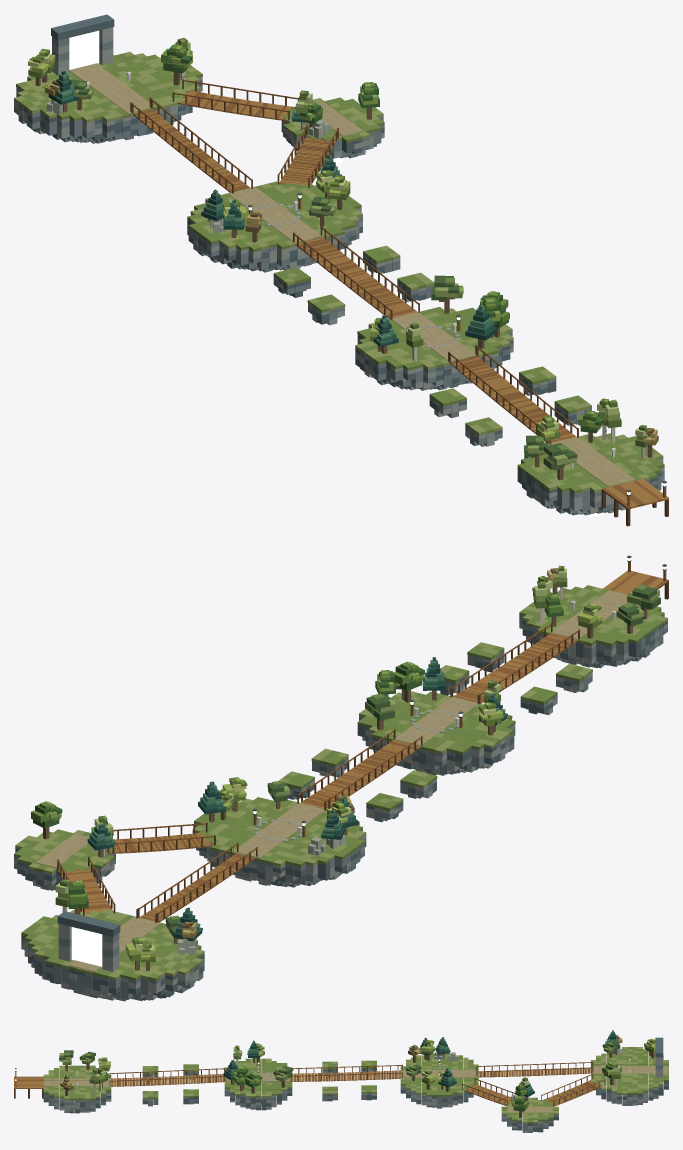
Rendered from sky_route_purified.glb.
3 renders of one model, top to bottom at view 1: azimuth 30°, elevation 25°; view 2: azimuth 150°, elevation 25°; view 3: azimuth 270°, elevation 25°, orthographic. The views are drawn at different scales.
Parts seen in each view (by area): view 1: sky_route_blocks, tree0_(0, 0).007, tree3_(0, 0).003, tree2_(0, 0).001, tree3_(0, 0).002; view 2: sky_route_blocks, tree0_(0, 0).003, tree3_(0, 0).003, tree0_(0, 0).006, tree3_(0, 0).002, tree2_(0, 0).004; view 3: sky_route_blocks, tree3_(0, 0).003, tree0_(0, 0).006, tree2_(0, 0).004, tree0_(0, 0).004, tree3_(0, 0).002, tree4_(0, 0).005, tree2_(0, 0).001, tree0_(0, 0).007, tree2_(0, 0).003.
Boxes of the visible parts, x1,y1,x2,y2 form: sky_route_blocks: [14, 14, 668, 526]; tree0_(0, 0).007: [161, 44, 192, 85]; tree3_(0, 0).003: [431, 275, 463, 313]; tree2_(0, 0).001: [465, 304, 496, 348]; tree3_(0, 0).002: [543, 443, 577, 480]; sky_route_blocks: [14, 555, 668, 1001]; tree0_(0, 0).003: [393, 661, 424, 702]; tree3_(0, 0).003: [365, 693, 396, 730]; tree0_(0, 0).006: [31, 801, 62, 839]; tree3_(0, 0).002: [627, 584, 660, 619]; tree2_(0, 0).004: [198, 781, 226, 822]; sky_route_blocks: [14, 1037, 668, 1135]; tree3_(0, 0).003: [273, 1066, 293, 1087]; tree0_(0, 0).006: [512, 1096, 528, 1117]; tree2_(0, 0).004: [439, 1068, 456, 1091]; tree0_(0, 0).004: [245, 1072, 262, 1093]; tree3_(0, 0).002: [59, 1050, 73, 1071]; tree4_(0, 0).005: [421, 1069, 435, 1089]; tree2_(0, 0).001: [223, 1060, 237, 1084]; tree0_(0, 0).007: [602, 1061, 621, 1085]; tree2_(0, 0).003: [435, 1037, 450, 1058].
Bounding box in the file's own units: 38.39 × 16.2 × 145.
